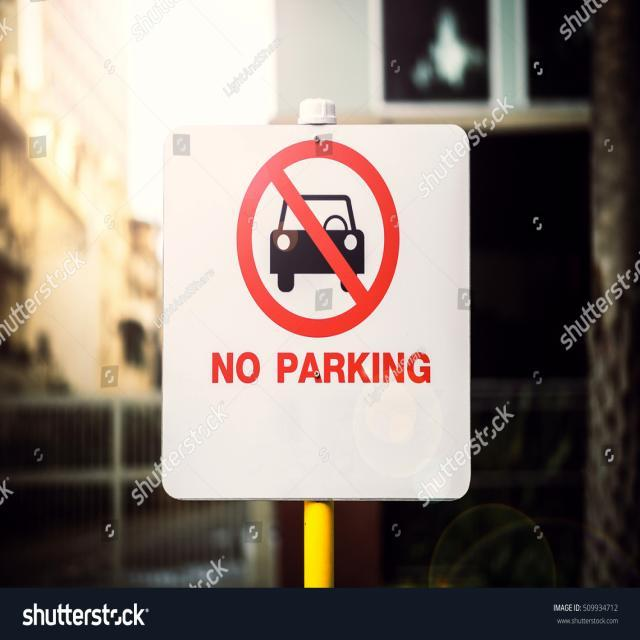Traffic sign: (157, 117, 478, 506)
